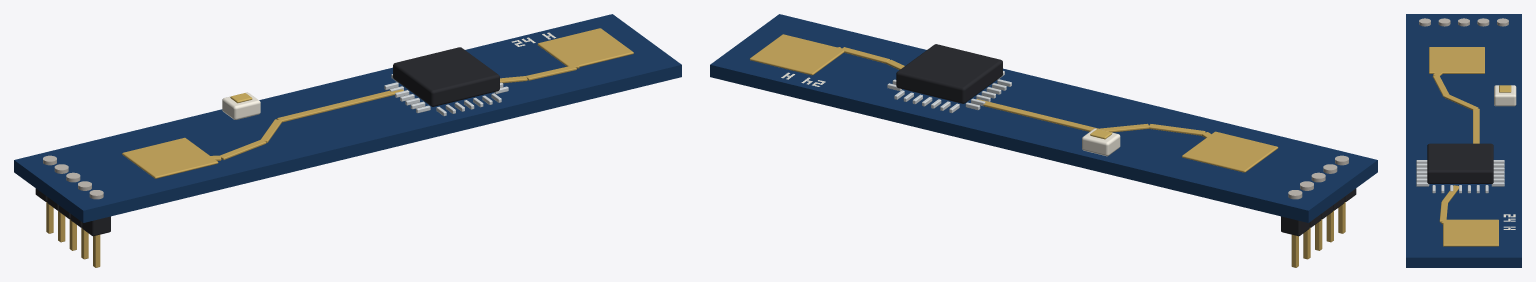
The model's file is sensors-12.glb.
3 renders of one model, left to right at view 1: azimuth 30°, elevation 25°; view 2: azimuth 150°, elevation 25°; view 3: azimuth 270°, elevation 25°, orthographic. The views are drawn at different scales.
Parts seen in each view (by area): view 1: pcb, chip, left-patch, right-patch, pins, indicator; view 2: pcb, chip, left-patch, right-patch, pins, indicator; view 3: pcb, chip, left-patch, right-patch, indicator, pins.
Part boxes in pixels (left/top/right/bottom): pcb: left=14, top=14, right=681, bottom=222; chip: left=384, top=47, right=508, bottom=116; left-patch: left=122, top=89, right=403, bottom=178; right-patch: left=500, top=28, right=633, bottom=83; pins: left=35, top=155, right=110, bottom=267; indicator: left=222, top=92, right=260, bottom=119; pcb: left=710, top=14, right=1377, bottom=222; chip: left=887, top=44, right=1011, bottom=112; left-patch: left=976, top=99, right=1278, bottom=172; right-patch: left=749, top=34, right=904, bottom=75; pins: left=1281, top=155, right=1356, bottom=267; indicator: left=1082, top=128, right=1120, bottom=156; pcb: left=1406, top=14, right=1521, bottom=267; chip: left=1416, top=143, right=1504, bottom=193; left-patch: left=1429, top=47, right=1484, bottom=143; right-patch: left=1439, top=185, right=1498, bottom=246; indicator: left=1494, top=85, right=1516, bottom=106; pins: left=1419, top=18, right=1508, bottom=26.
Bounding box in the file's own units: 3.29 × 0.4825 × 0.66.
